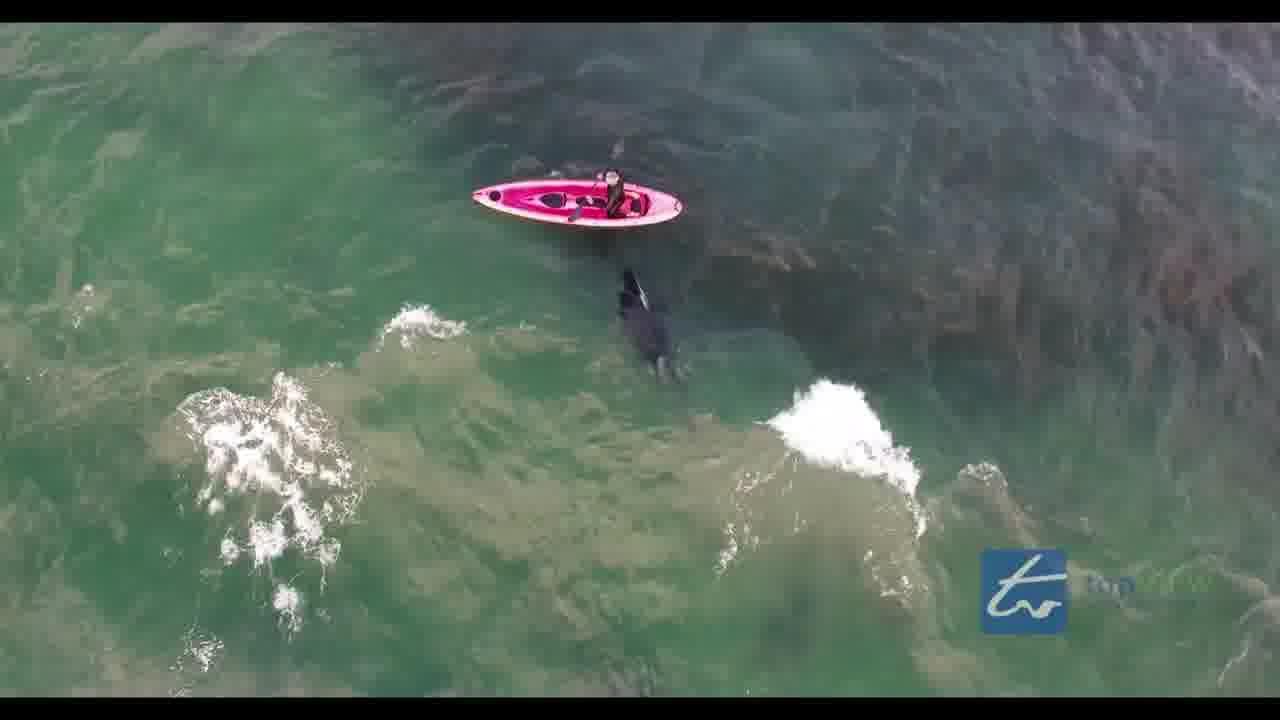swimmer: (592, 167, 630, 210)
